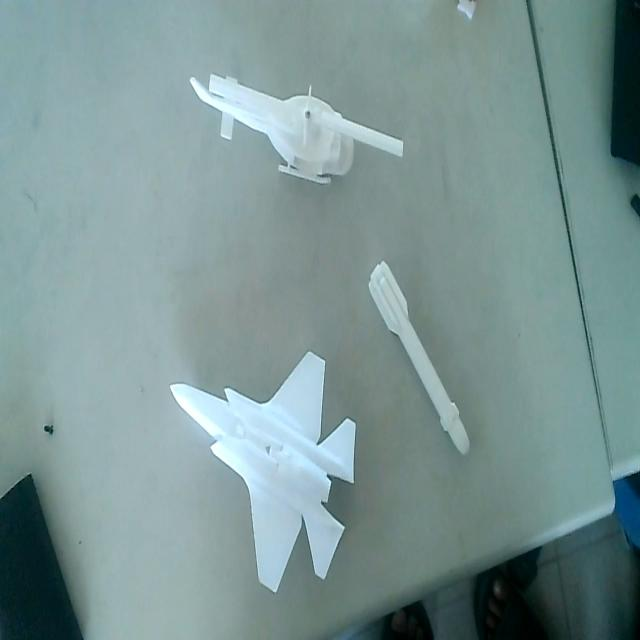Helicopter: (187, 62, 405, 200)
Jet: (168, 348, 358, 602)
Rocket: (367, 252, 473, 457)
